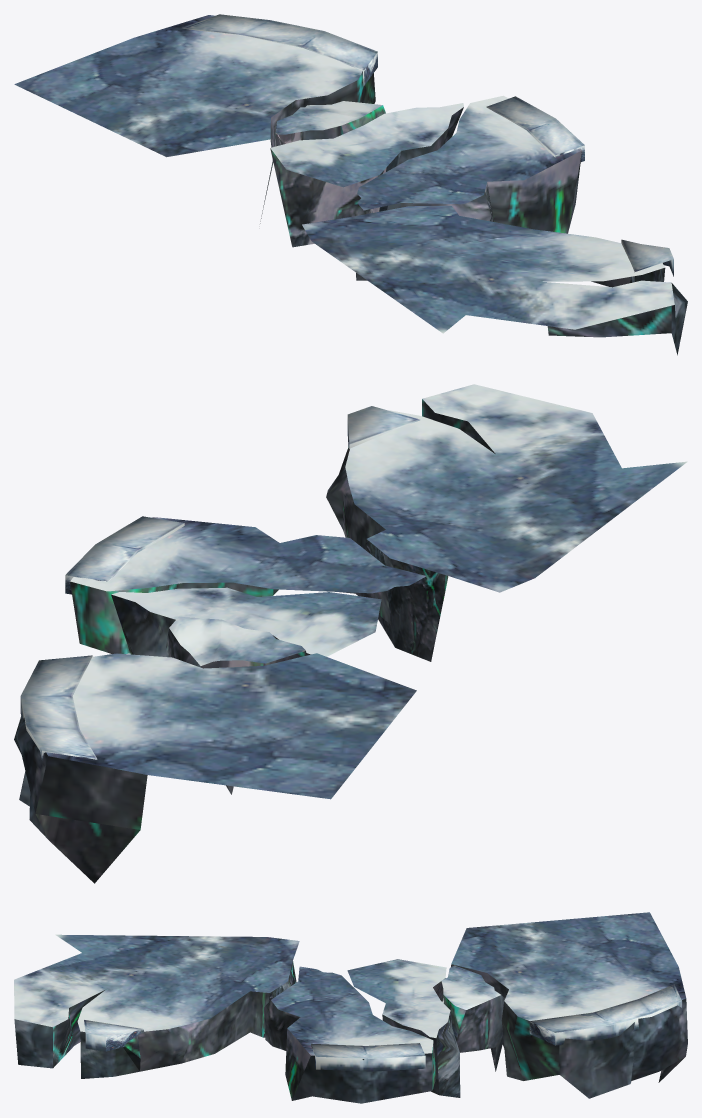
File: S_Build_Snowland206_3.FBX
3 renders of one model, top to bottom at view 1: azimuth 30°, elevation 25°; view 2: azimuth 150°, elevation 25°; view 3: azimuth 270°, elevation 25°, orthographic. The views are drawn at different scales.
Parts seen in each view (by area): view 1: S_Build_Snowland206_3; view 2: S_Build_Snowland206_3; view 3: S_Build_Snowland206_3.
Boxes of the visible parts, x1,y1,x2,y2 form: S_Build_Snowland206_3: (14, 14, 687, 355); S_Build_Snowland206_3: (14, 384, 687, 883); S_Build_Snowland206_3: (14, 912, 687, 1103).
Size of the model in its own units: 564 by 1092 by 177.
